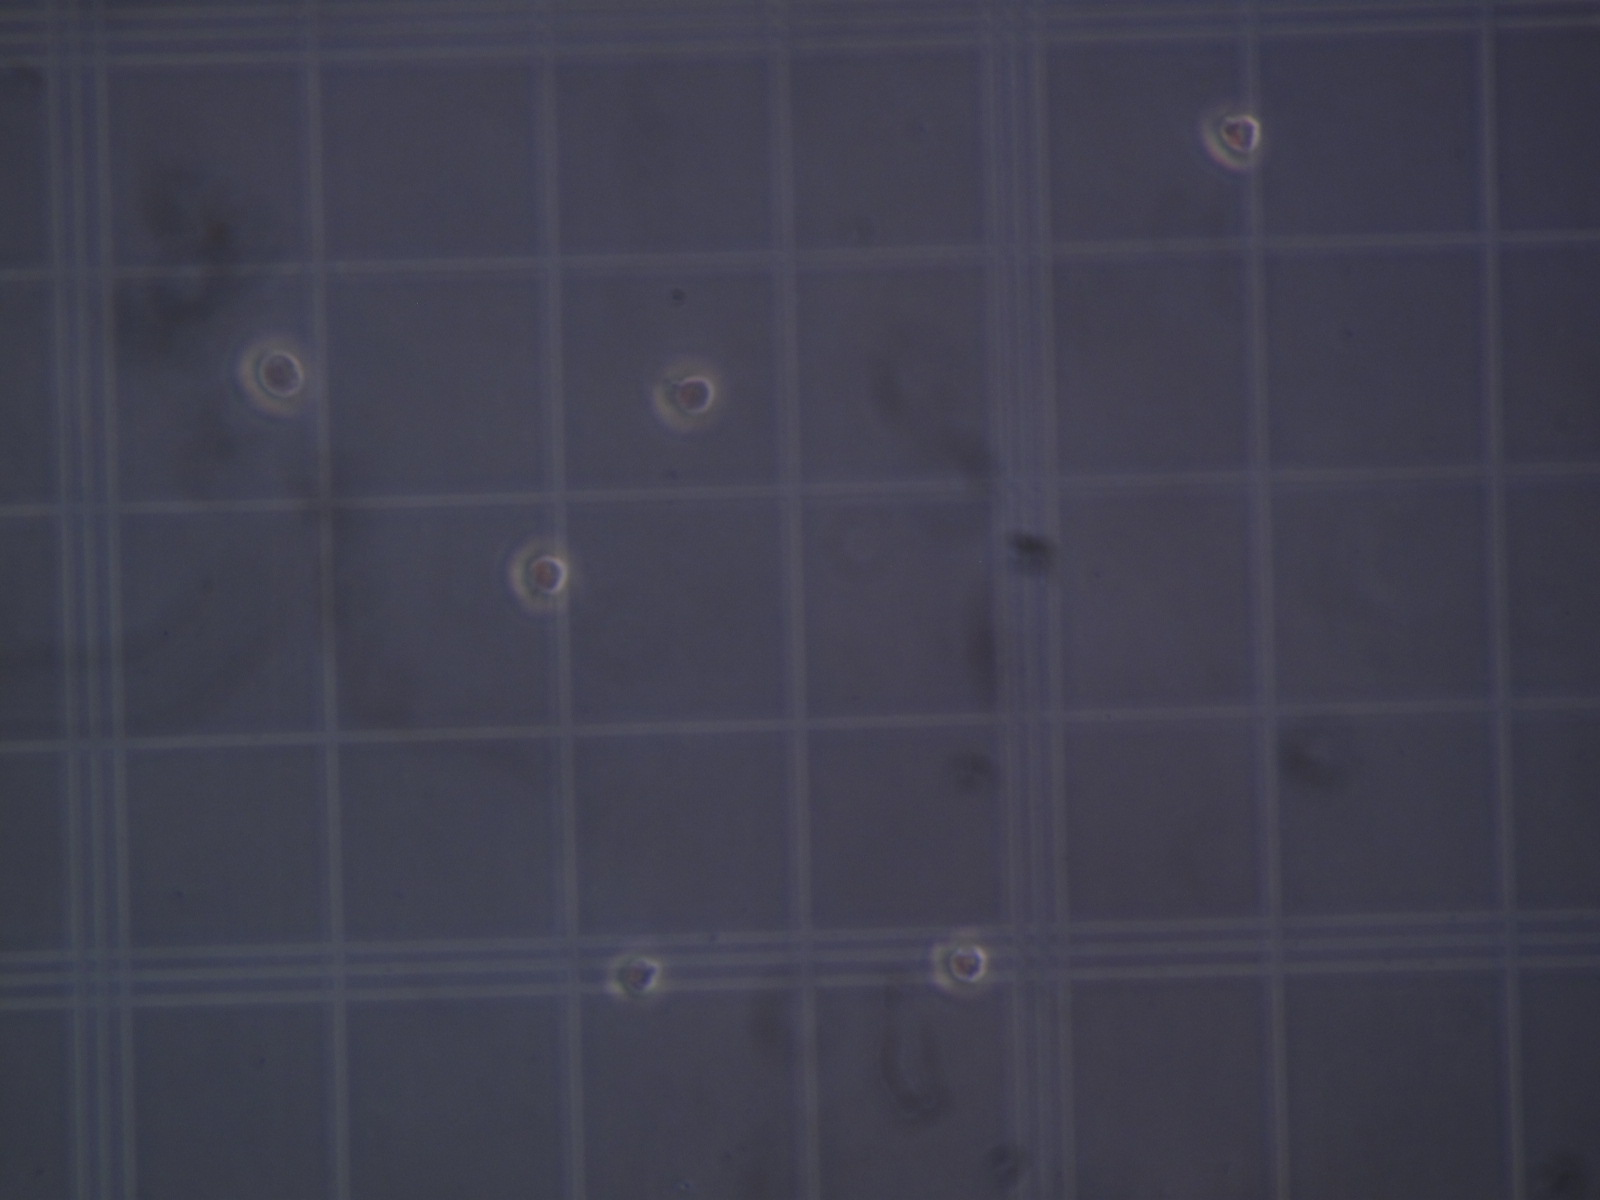hemo: (237, 335, 310, 415), (653, 361, 721, 432), (506, 539, 569, 613), (1198, 105, 1262, 170), (929, 939, 990, 998), (606, 950, 663, 1005)
